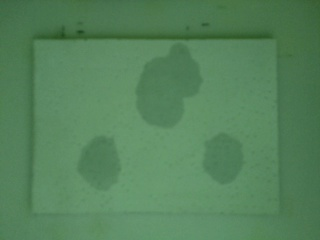Water_detected: (147, 62, 189, 111), (93, 150, 118, 182), (211, 155, 217, 161)
